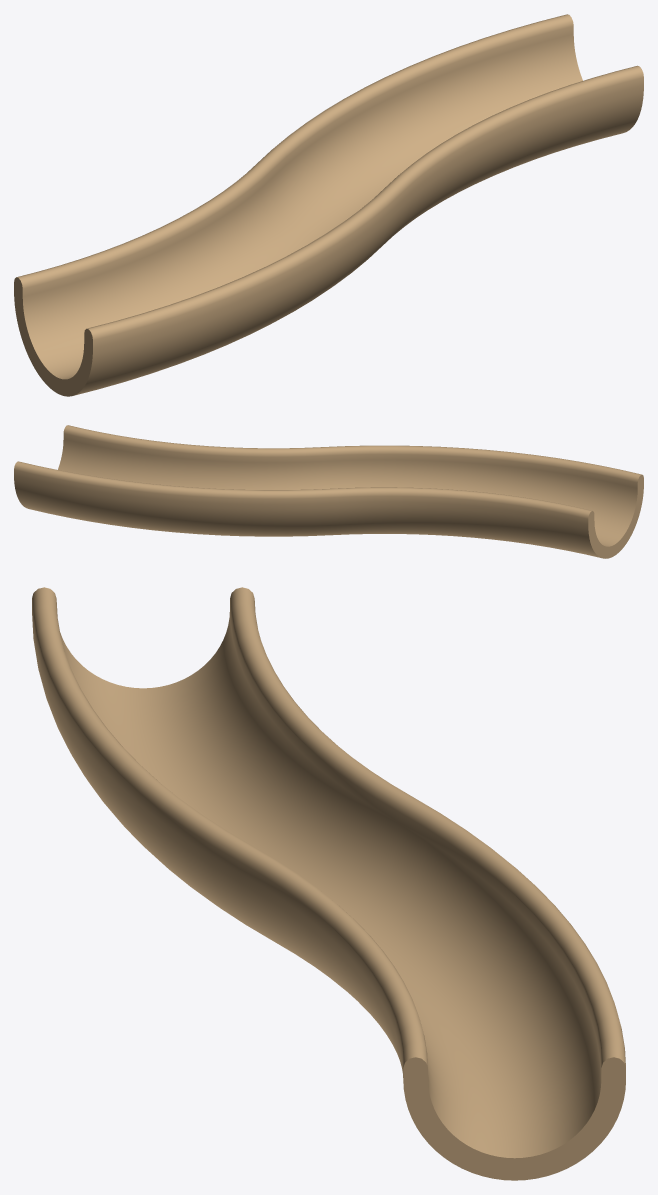
Rendered from rail_s_1x3_l3.glb.
3 views of the same model, one above another, from view 1: azimuth 30°, elevation 25°; view 2: azimuth 150°, elevation 25°; view 3: azimuth 270°, elevation 25° (orthographic). The views are drawn at different scales.
Visible parts, largest first — view 1: rail_s_1x3_l3_lod0; view 2: rail_s_1x3_l3_lod0; view 3: rail_s_1x3_l3_lod0.
Part boxes in pixels (x1=…): rail_s_1x3_l3_lod0: x1=14, y1=14, x2=643, y2=396; rail_s_1x3_l3_lod0: x1=14, y1=425, x2=643, y2=558; rail_s_1x3_l3_lod0: x1=32, y1=587, x2=625, y2=1180.
Size of what is drawn, in the model's own units: 0.1796 by 0.022 by 0.096.
